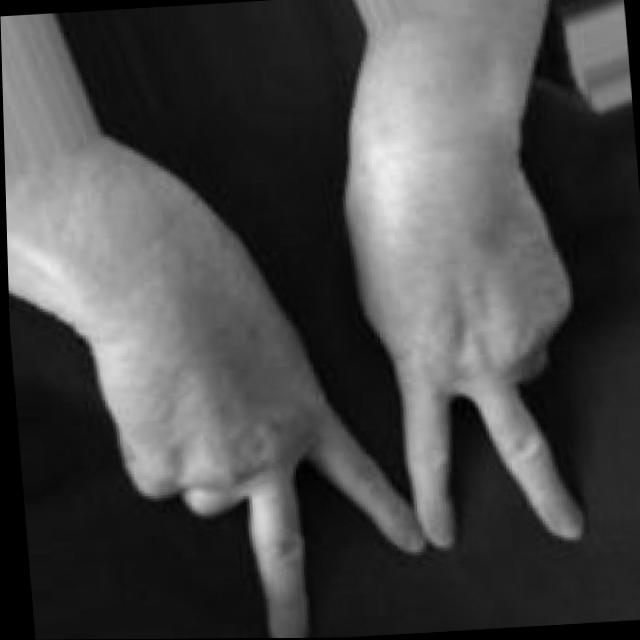M: (58, 118, 600, 640)
